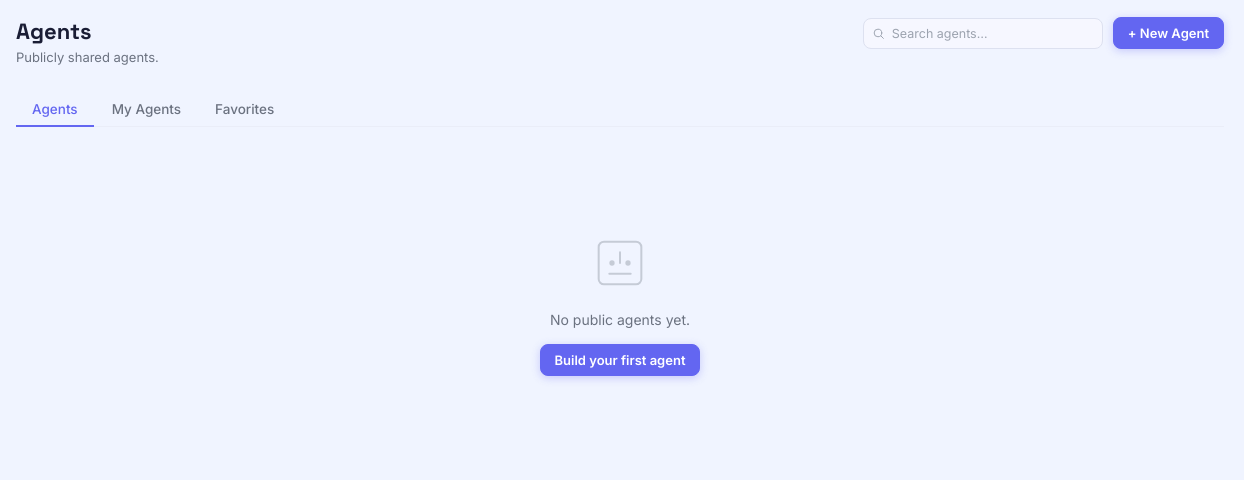
Test: AgentsPage › Authenticated user › shows Owned badge on owned agents in My Agents tab
This screenshot has width=1244, height=480.
Click the tab "My Agents": point(146, 110) x1=96 y1=93 x2=197 y2=127
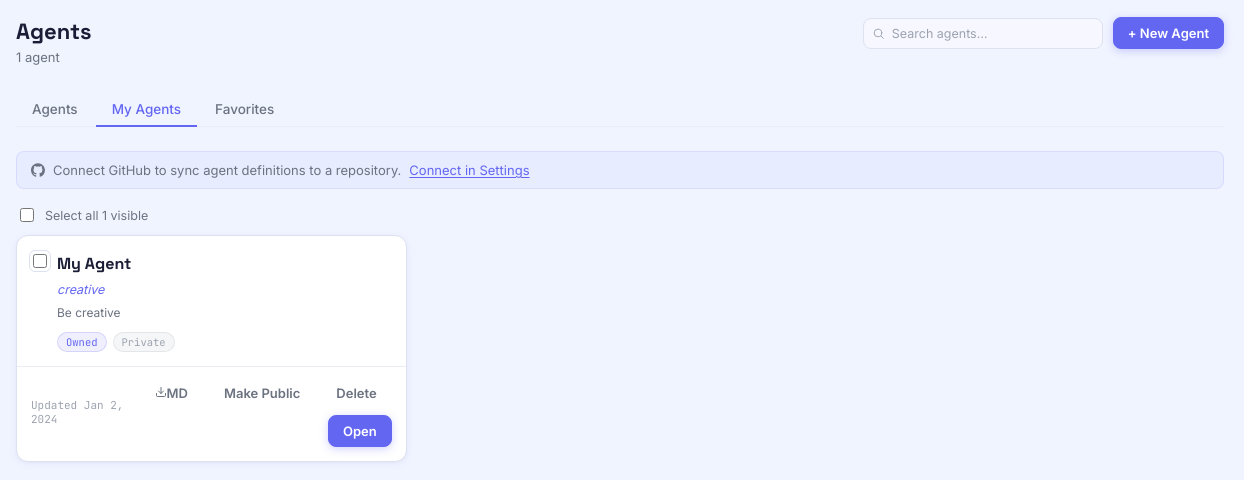
Expected: the text "Owned" is shown, x1=57 y1=332 x2=106 y2=352
